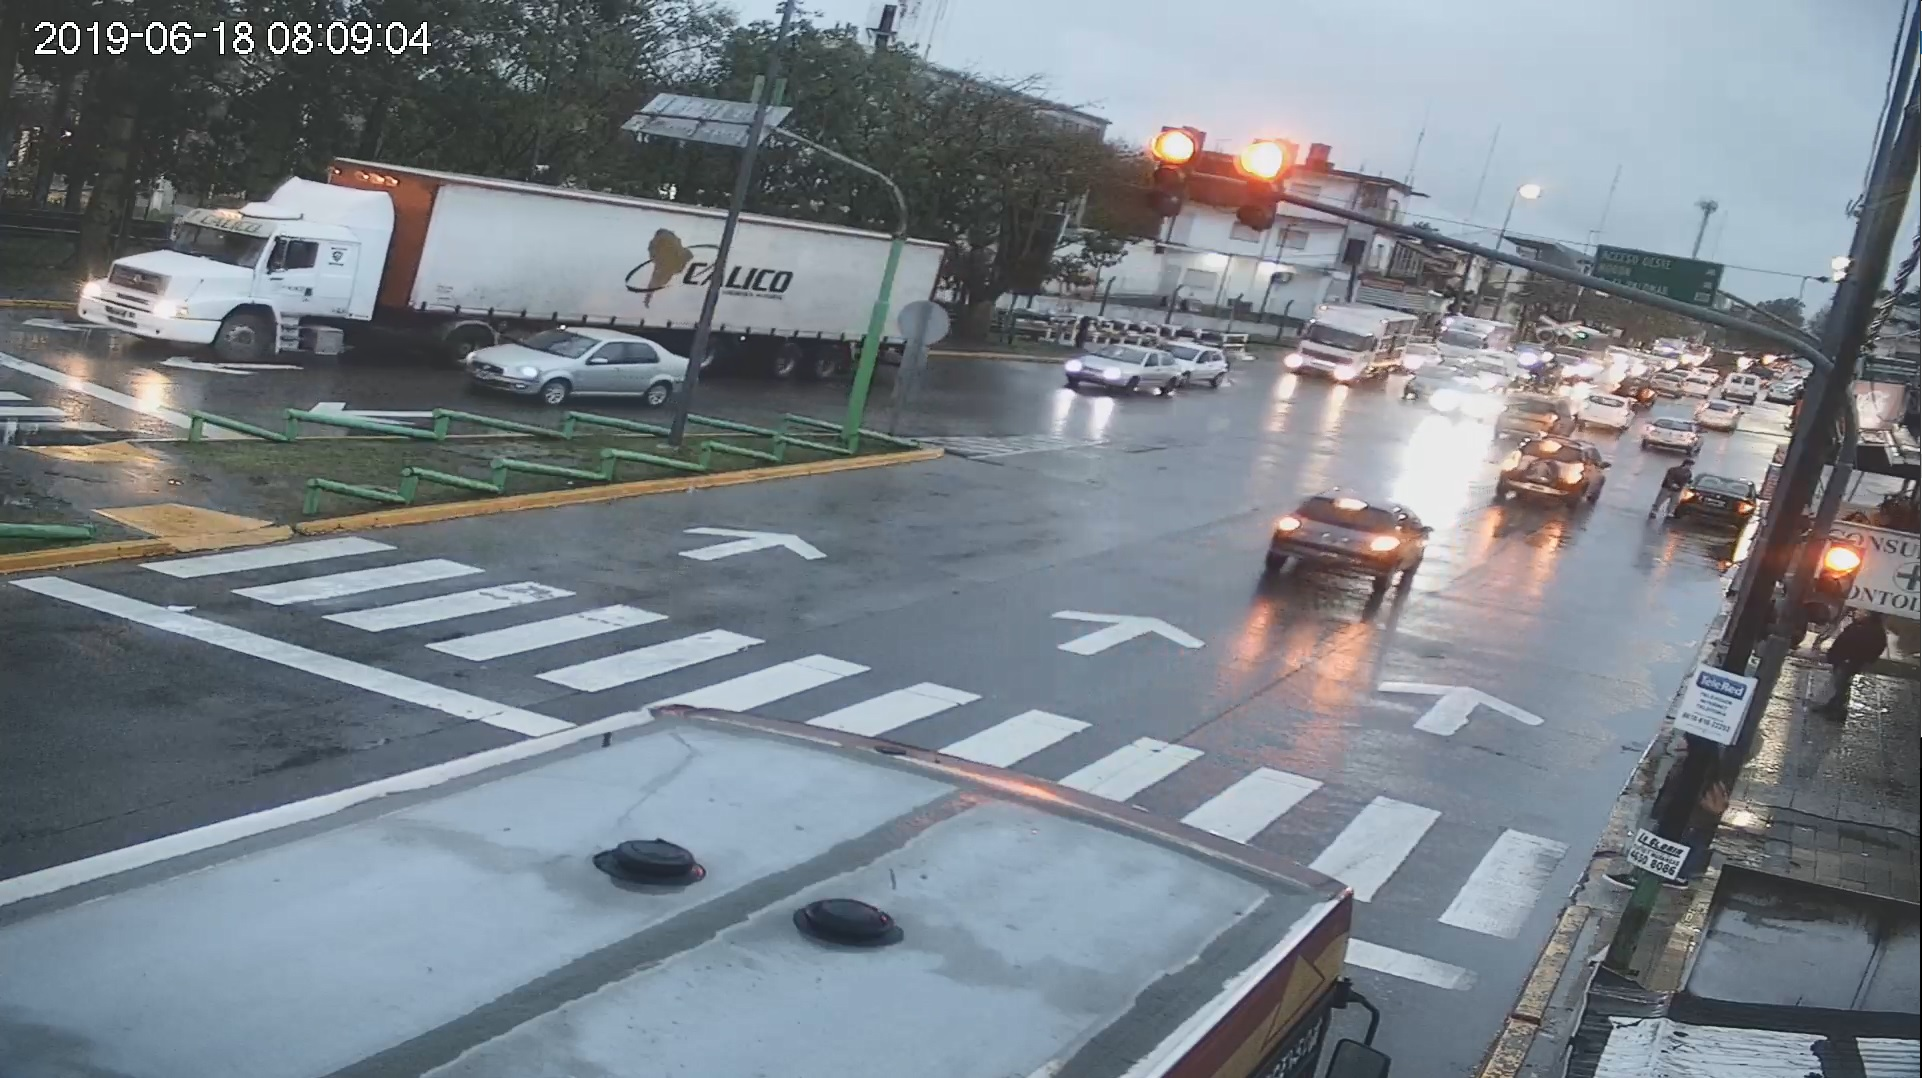bus: (1, 702, 1411, 1075)
car: (471, 325, 704, 422), (1265, 482, 1434, 596), (1496, 431, 1610, 505), (1063, 336, 1177, 401)
truck: (71, 154, 950, 397)
